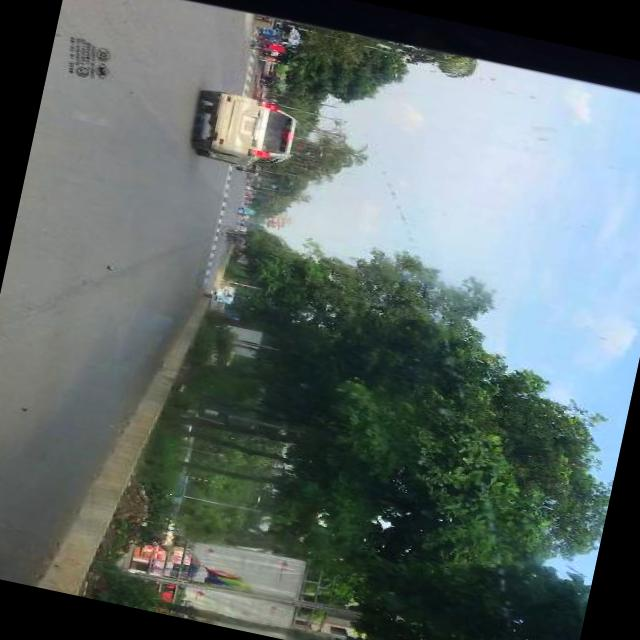bus: (215, 293, 232, 303)
car: (190, 85, 307, 176), (217, 286, 230, 296)
motorcycle: (218, 224, 252, 248), (234, 164, 261, 176)
